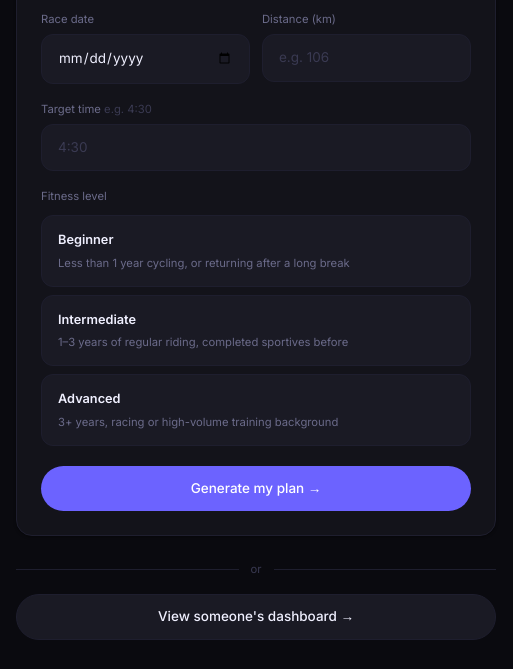
Test: SetupPage › shows error if name is empty on submit
This screenshot has width=513, height=669.
(page scrolled)
Click the button "Generate my plan →": (256, 488) left=41, top=466, right=471, bottom=511
(page scrolled)
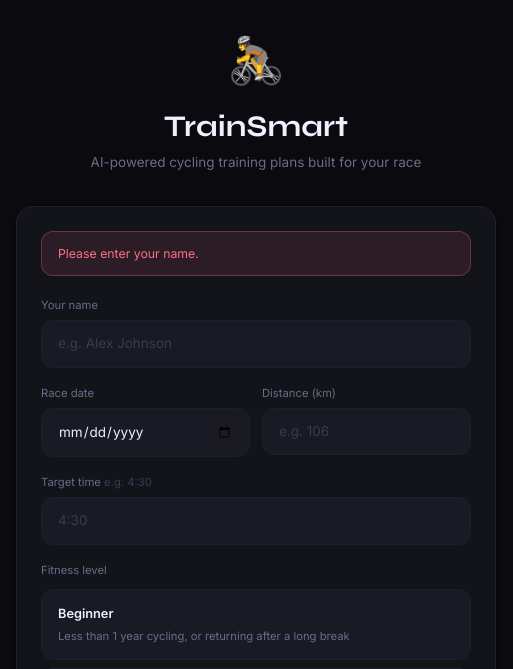
Expected: the text "Please enter your name." is shown, left=41, top=231, right=471, bottom=276
